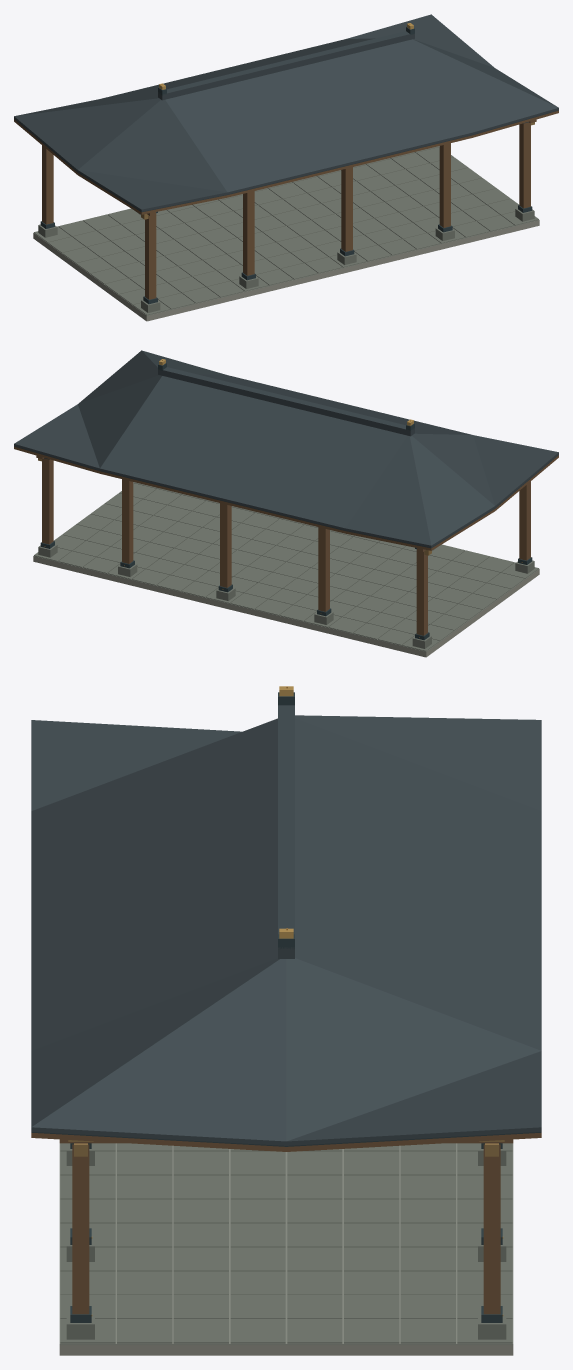
The model's file is visual-far.glb.
The picture shows the model from 3 angles, top to bottom: view 1: azimuth 30°, elevation 25°; view 2: azimuth 150°, elevation 25°; view 3: azimuth 270°, elevation 25°; orthographic projection. The views are drawn at different scales.
Parts seen in each view (by area): view 1: 长脊飞檐手选远档 · far2, 石铺面与混凝土楼板 (×8), 木柱、石础与金属抱箍 (×6); view 2: 长脊飞檐手选远档 · far2, 石铺面与混凝土楼板 (×8), 木柱、石础与金属抱箍 (×6); view 3: 长脊飞檐手选远档 · far2, 石铺面与混凝土楼板 (×6), 木柱、石础与金属抱箍 (×2).
Part boxes in pixels (bbox=[...]): 长脊飞檐手选远档 · far2: bbox=[14, 14, 558, 219]; 石铺面与混凝土楼板 (×8): bbox=[33, 146, 539, 321]; 木柱、石础与金属抱箍 (×6): bbox=[38, 122, 534, 312]; 长脊飞檐手选远档 · far2: bbox=[14, 350, 558, 555]; 石铺面与混凝土楼板 (×8): bbox=[33, 482, 539, 657]; 木柱、石础与金属抱箍 (×6): bbox=[38, 458, 534, 648]; 长脊飞檐手选远档 · far2: bbox=[31, 686, 541, 1156]; 石铺面与混凝土楼板 (×6): bbox=[59, 1143, 513, 1355]; 木柱、石础与金属抱箍 (×2): bbox=[66, 1140, 506, 1339].
Bounding box in the file's own units: 13.6 × 5.54 × 7.2.
10 materials, 10 textured.
